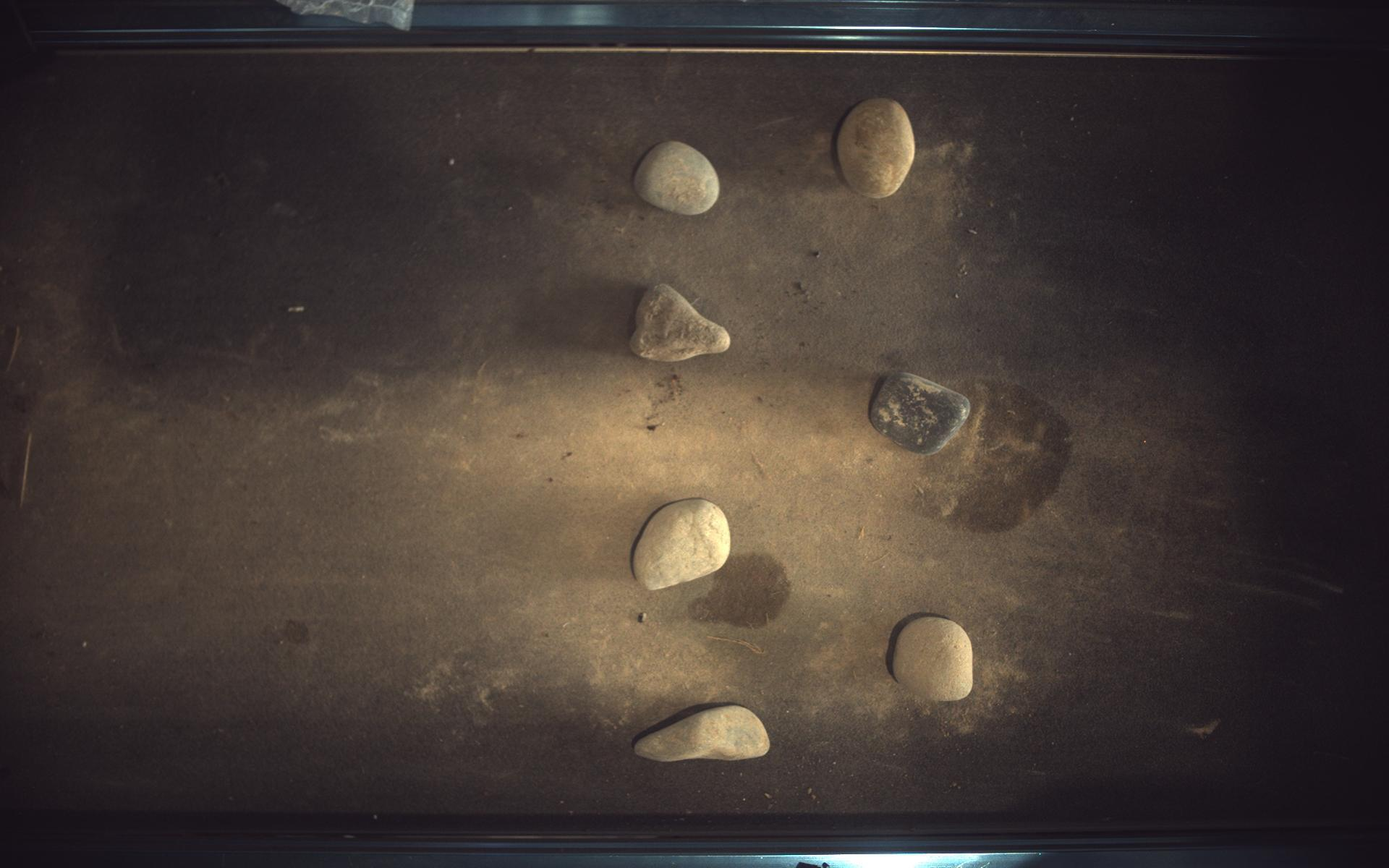stone: (634, 499, 731, 591), (872, 372, 972, 455), (630, 283, 731, 362), (838, 97, 917, 197), (635, 706, 771, 764), (893, 617, 974, 702), (635, 140, 719, 215)
